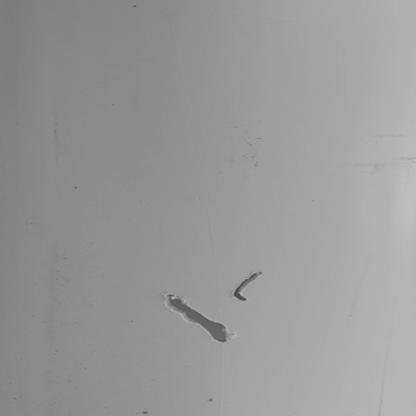fengxi: (165, 293, 229, 343), (232, 269, 264, 302)
